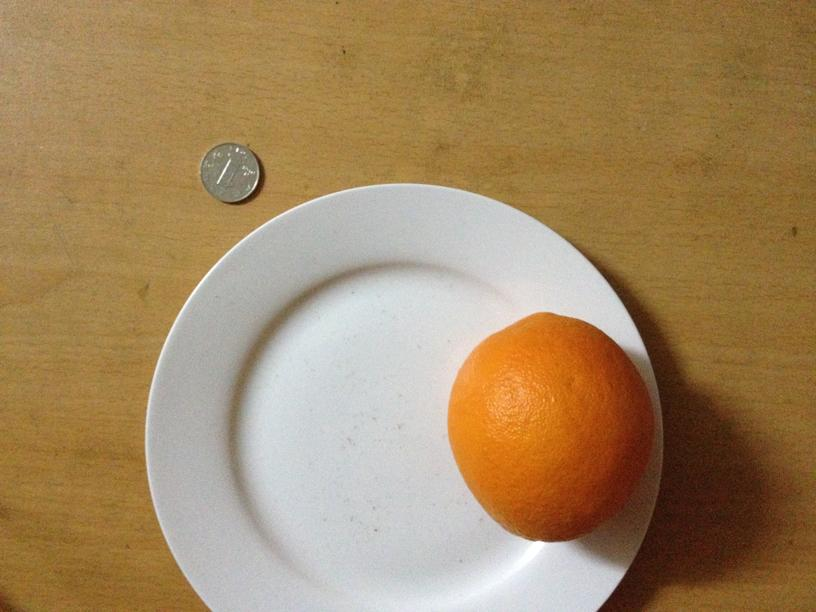coin: (197, 142, 263, 202)
orange: (450, 310, 651, 535)
